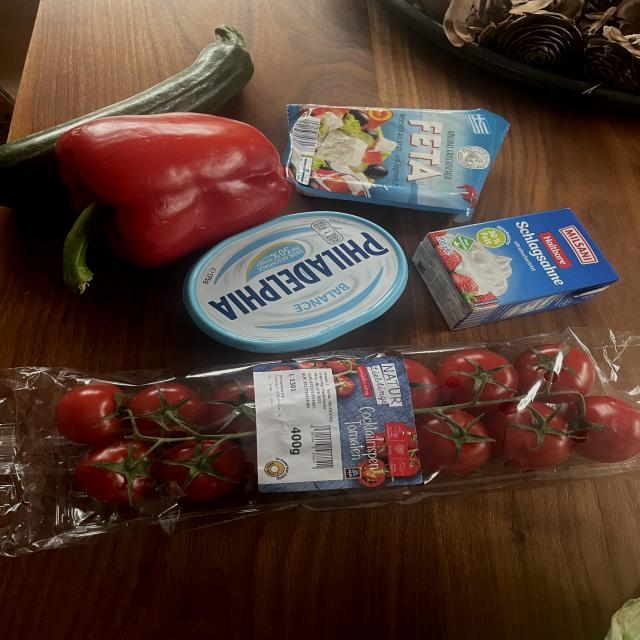bell_pepper: (61, 119, 299, 240)
tomato: (497, 402, 578, 470), (446, 346, 524, 416), (570, 395, 640, 468), (526, 341, 610, 401), (74, 451, 160, 508), (57, 383, 138, 442), (139, 386, 212, 442), (163, 447, 238, 499)
zucchini: (1, 19, 259, 196)
